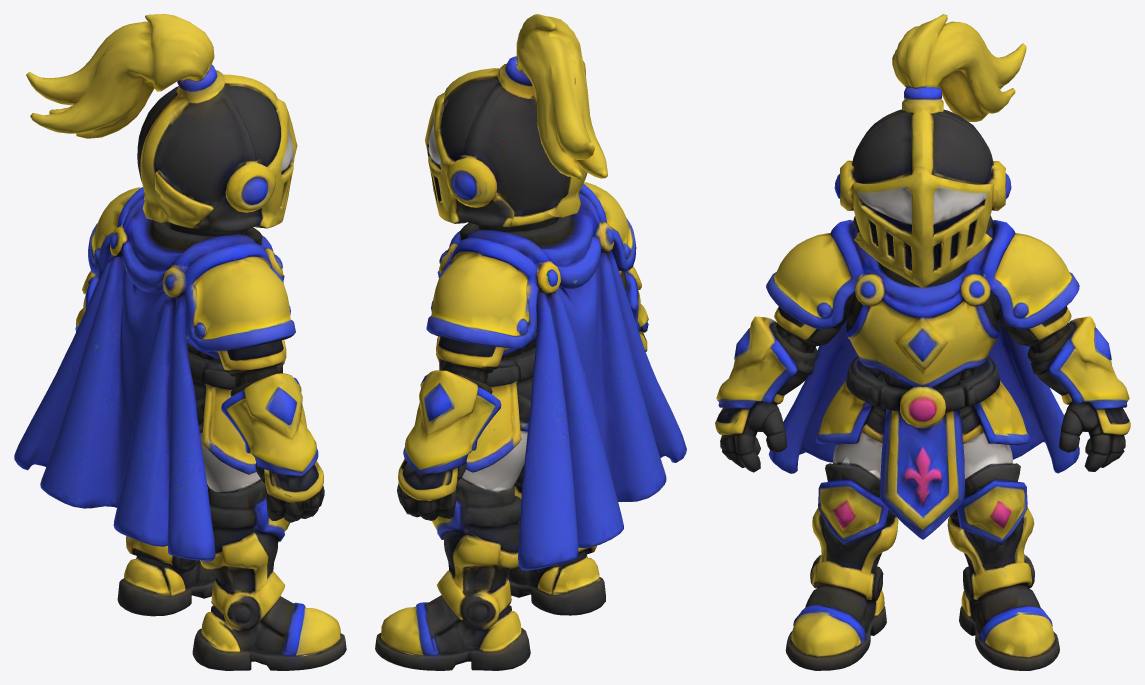
File: knight_seg.preview.glb
The picture shows the model from 3 angles, left to right: view 1: azimuth 30°, elevation 25°; view 2: azimuth 150°, elevation 25°; view 3: azimuth 270°, elevation 25°; orthographic projection. The views are drawn at different scales.
Visible parts, largest first — view 1: tripo_part_0, tripo_part_6, tripo_part_3, tripo_part_8, tripo_part_11, tripo_part_5, tripo_part_1, tripo_part_2, tripo_part_9, tripo_part_4, tripo_part_10, tripo_part_12; view 2: tripo_part_0, tripo_part_2, tripo_part_6, tripo_part_10, tripo_part_7, tripo_part_8, tripo_part_1, tripo_part_3, tripo_part_4, tripo_part_9, tripo_part_11, tripo_part_12 (+2 smaller); view 3: tripo_part_4, tripo_part_1, tripo_part_3, tripo_part_2, tripo_part_9, tripo_part_6, tripo_part_0, tripo_part_7, tripo_part_5, tripo_part_8, tripo_part_10, tripo_part_11 (+1 smaller).
Boxes of the visible parts, x1,y1,x2,y2 form: tripo_part_0: (14, 253, 215, 561); tripo_part_6: (137, 64, 281, 236); tripo_part_3: (192, 480, 346, 670); tripo_part_8: (26, 14, 214, 138); tripo_part_11: (184, 242, 295, 371); tripo_part_5: (221, 373, 324, 522); tripo_part_1: (121, 198, 284, 387); tripo_part_2: (117, 484, 216, 616); tripo_part_9: (144, 95, 297, 232); tripo_part_4: (188, 340, 286, 474); tripo_part_10: (88, 187, 144, 275); tripo_part_12: (200, 433, 261, 493); tripo_part_0: (518, 222, 686, 570); tripo_part_2: (375, 478, 530, 670); tripo_part_6: (438, 56, 586, 231); tripo_part_10: (426, 238, 538, 368); tripo_part_7: (397, 370, 501, 520); tripo_part_8: (516, 14, 607, 179); tripo_part_1: (437, 193, 605, 384); tripo_part_3: (506, 465, 605, 615); tripo_part_4: (436, 336, 535, 472); tripo_part_9: (425, 89, 587, 227); tripo_part_11: (579, 182, 636, 275); tripo_part_12: (461, 429, 527, 492); tripo_part_4: (815, 356, 1029, 539); tripo_part_1: (774, 225, 1070, 390); tripo_part_3: (785, 456, 898, 670); tripo_part_2: (947, 463, 1059, 670); tripo_part_9: (847, 166, 998, 288); tripo_part_6: (834, 87, 1011, 211); tripo_part_0: (768, 319, 1079, 473); tripo_part_7: (1027, 316, 1130, 471); tripo_part_5: (715, 316, 818, 472); tripo_part_8: (892, 14, 1026, 121); tripo_part_10: (977, 220, 1079, 342); tripo_part_11: (766, 220, 863, 340).
Bounding box in the file's own units: 0.3784 × 1 × 0.6321.
Materials: 15 (15 with a texture image).
